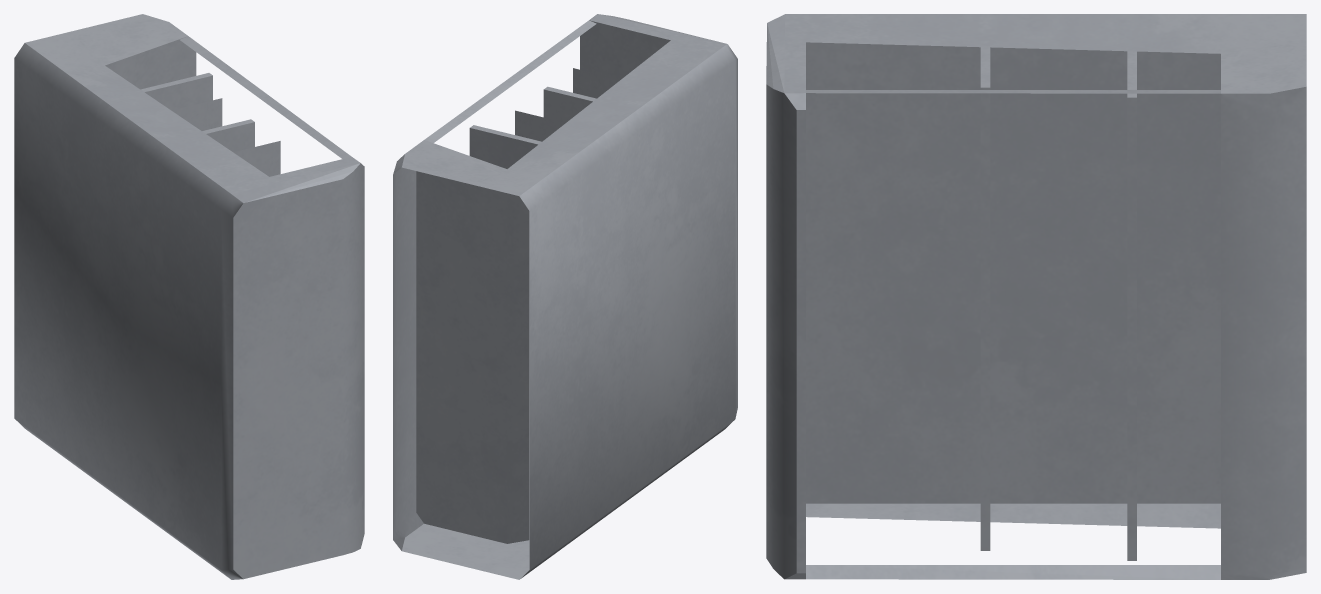
The model's file is cool time.obj.
3 views of the same model, side by side, from view 1: azimuth 30°, elevation 25°; view 2: azimuth 150°, elevation 25°; view 3: azimuth 270°, elevation 25° (orthographic). The views are drawn at different scales.
Parts seen in each view (by area): view 1: cool time; view 2: cool time; view 3: cool time.
Part boxes in pixels (box(x1,y1,x2,y2)): cool time: box(14, 14, 364, 579); cool time: box(393, 14, 737, 579); cool time: box(766, 14, 1306, 579).
Bounding box in the file's own units: 0.00802 × 0.02 × 0.0202.
1 material, 1 textured.
